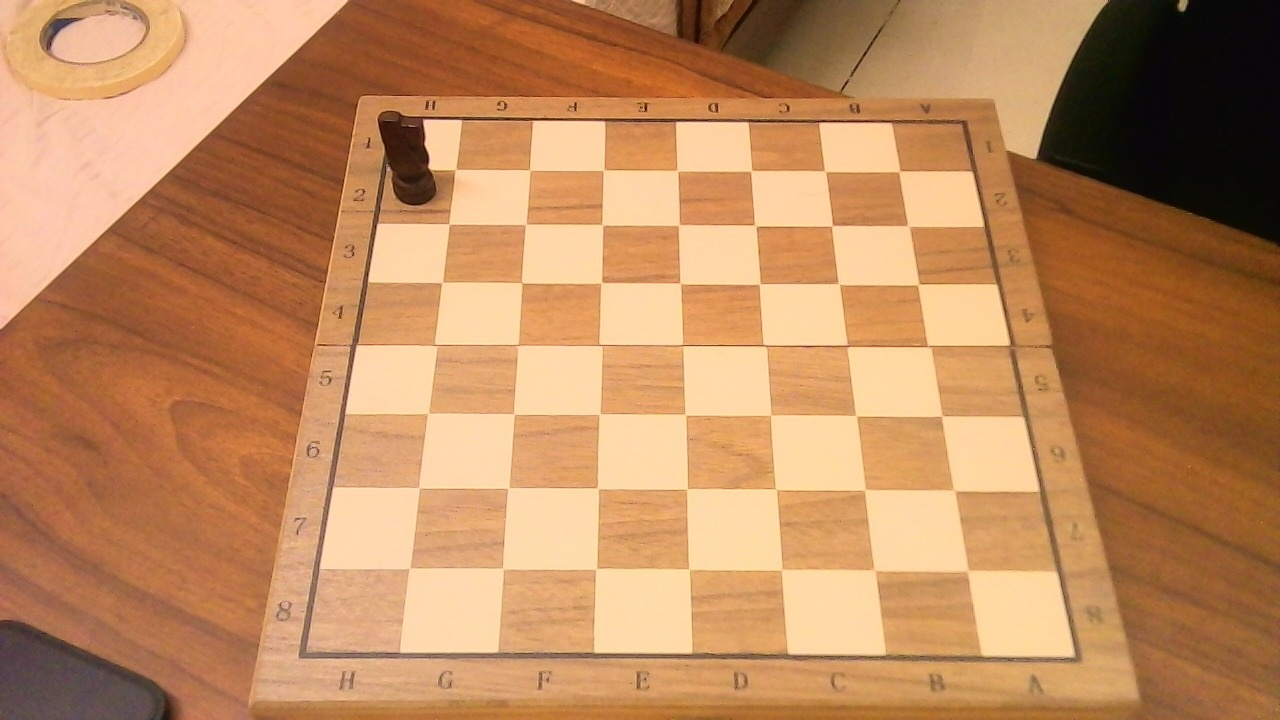n: (368, 94, 447, 208)
